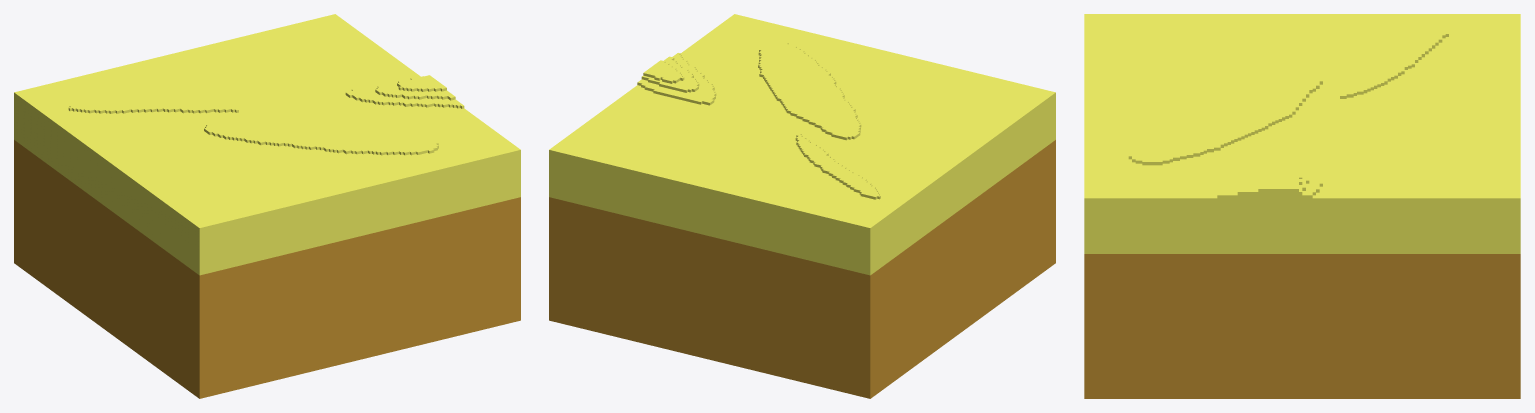
The picture shows the model from 3 angles, left to right: view 1: azimuth 30°, elevation 25°; view 2: azimuth 150°, elevation 25°; view 3: azimuth 270°, elevation 25°; orthographic projection. The views are drawn at different scales.
Visible parts, largest first — view 1: 2N; view 2: 2N; view 3: 2N.
Part boxes in pixels (x1,y1,x2,y2): 2N: (14,14,520,398); 2N: (549,14,1055,398); 2N: (1084,14,1520,398).
Bounding box in the file's own units: 12.8 × 6.8 × 12.8.
1 material, 1 textured.
